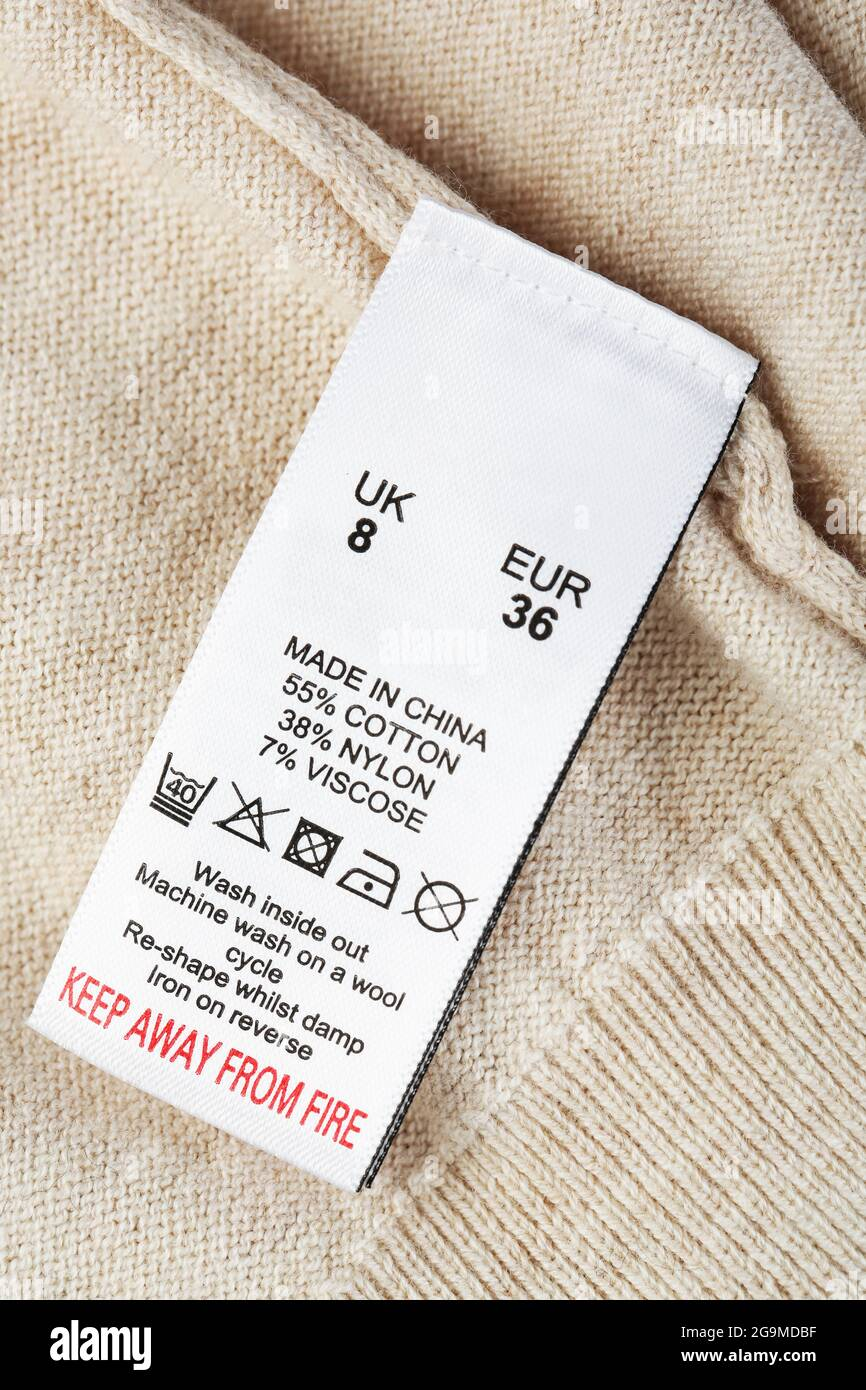ER_iron_low_temp: (338, 848, 404, 911)
ER_no_bleach: (213, 783, 279, 854)
ER_no_dry_clean: (404, 869, 473, 940)
ER_no_tumble_dry: (281, 812, 344, 881)
ER_wash_40_mild: (146, 748, 216, 825)
